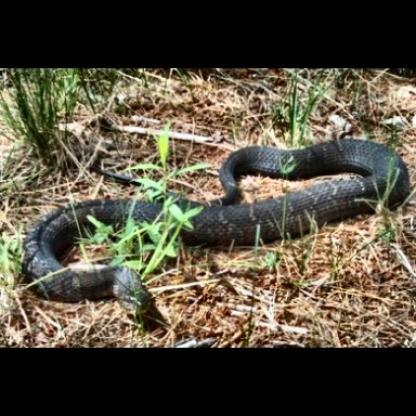Snake: (0, 131, 414, 313)
